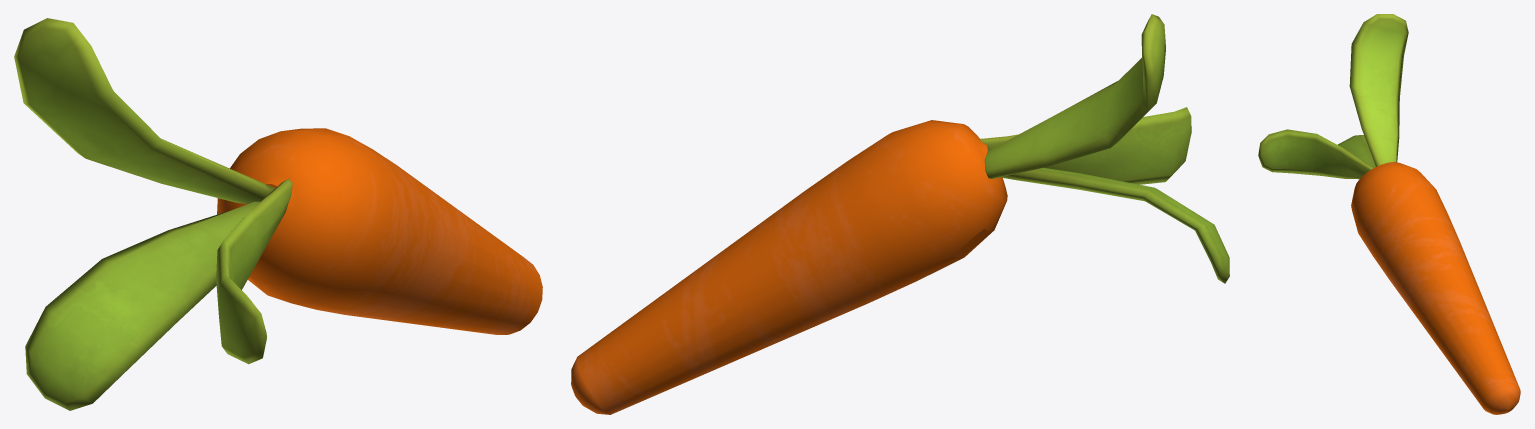
File: carrot.glb
3 views of the same model, side by side, from view 1: azimuth 30°, elevation 25°; view 2: azimuth 150°, elevation 25°; view 3: azimuth 270°, elevation 25° (orthographic). The views are drawn at different scales.
Parts seen in each view (by area): view 1: Carrot_lambert1_0; view 2: Carrot_lambert1_0; view 3: Carrot_lambert1_0.
Boxes of the visible parts, <box> form: Carrot_lambert1_0: <box>14,18,542,410</box>; Carrot_lambert1_0: <box>571,14,1229,414</box>; Carrot_lambert1_0: <box>1258,14,1520,414</box>.
Size of the model in its own units: 0.1815 by 0.1416 by 0.1269.
1 material, 1 textured.
